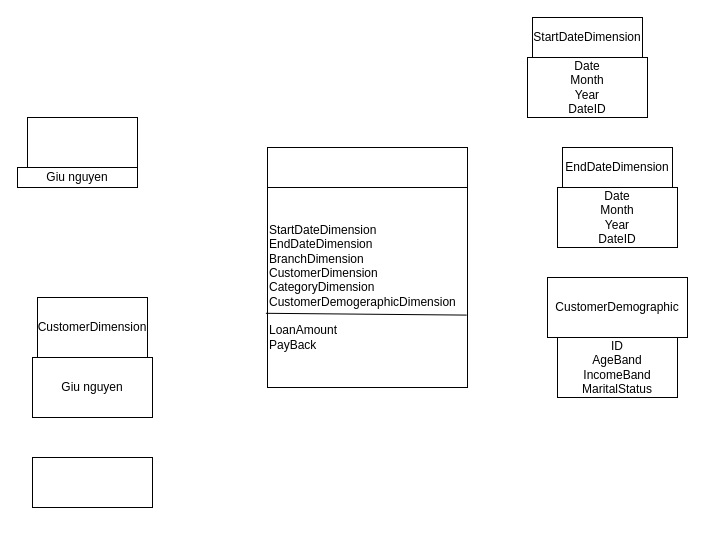
The diagram is 705 pixels wide and 533 high, and some of its shapes have lost their labels. Here are the shapes that lost their labels. From the top down, the centre of each, then its label:
At [82,142]: "BranchDimension".
At [367,167]: "Loan Fact".
At [92,482]: "CategoryDimension".
